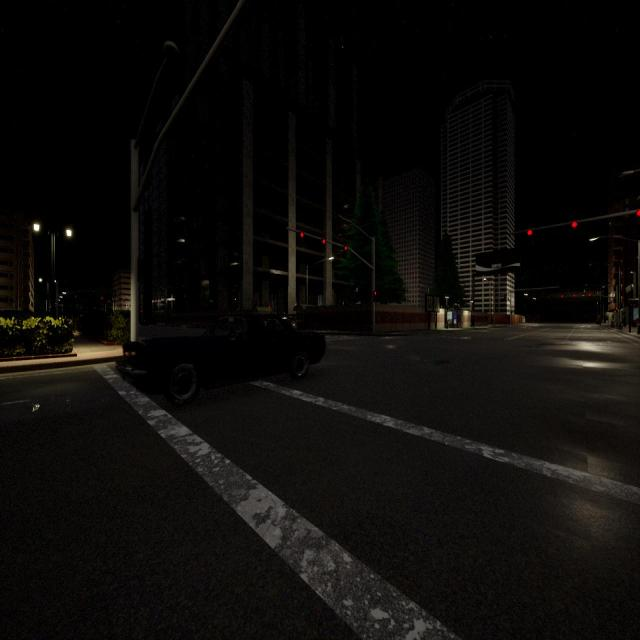Pedestrian: (471, 314, 476, 328)
Vehicle: (117, 310, 325, 404)
traffic_light: (137, 256, 144, 282), (527, 229, 533, 241), (635, 208, 640, 221), (372, 290, 377, 302), (299, 232, 304, 244), (572, 221, 577, 233), (322, 239, 326, 250), (343, 245, 347, 256), (572, 294, 576, 299), (588, 293, 591, 299), (616, 307, 618, 313), (561, 294, 563, 299), (101, 296, 103, 300), (140, 310, 142, 314), (123, 298, 125, 302)
